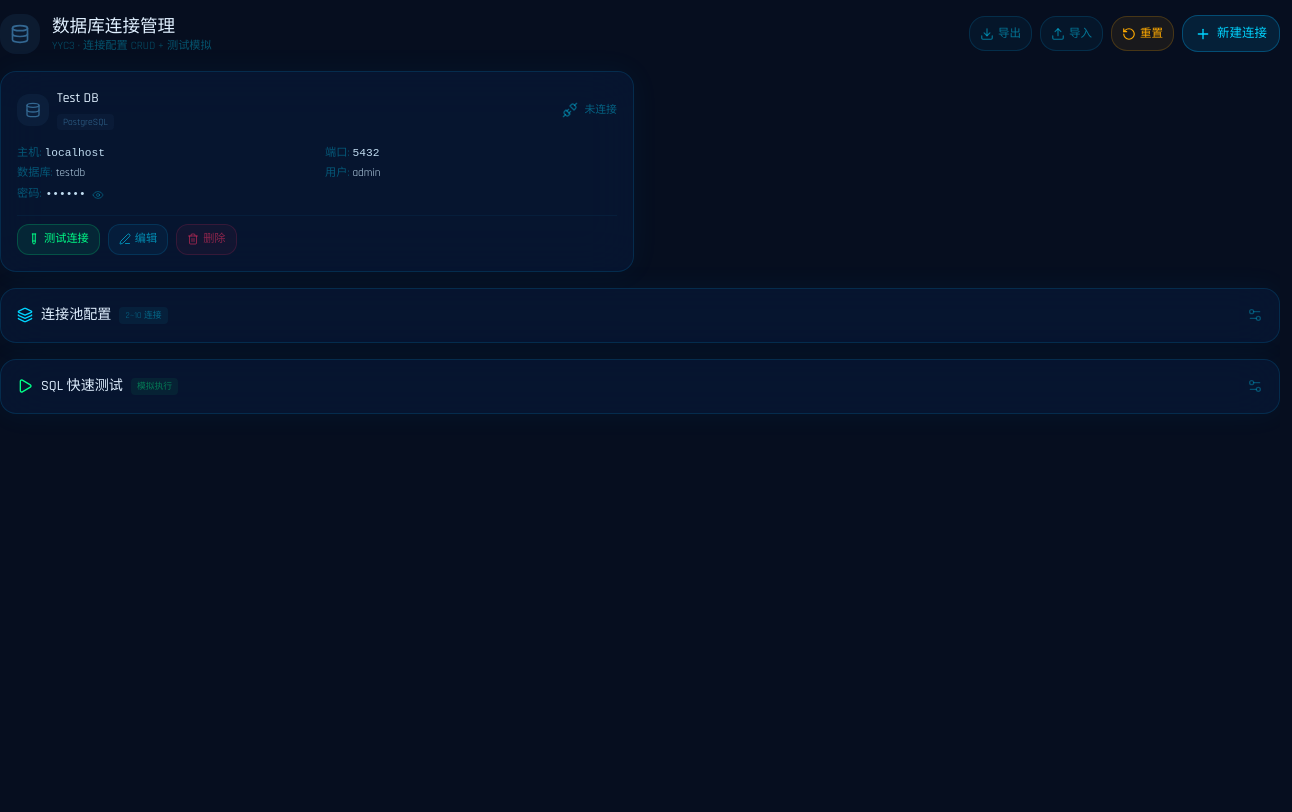
DatabaseConnectionPanel › SQL 快速测试 › clears SQL history
Later steps or results of the test are not shown.
Click the heading "SQL 快速测试": click(82, 386) left=41, top=376, right=123, bottom=397
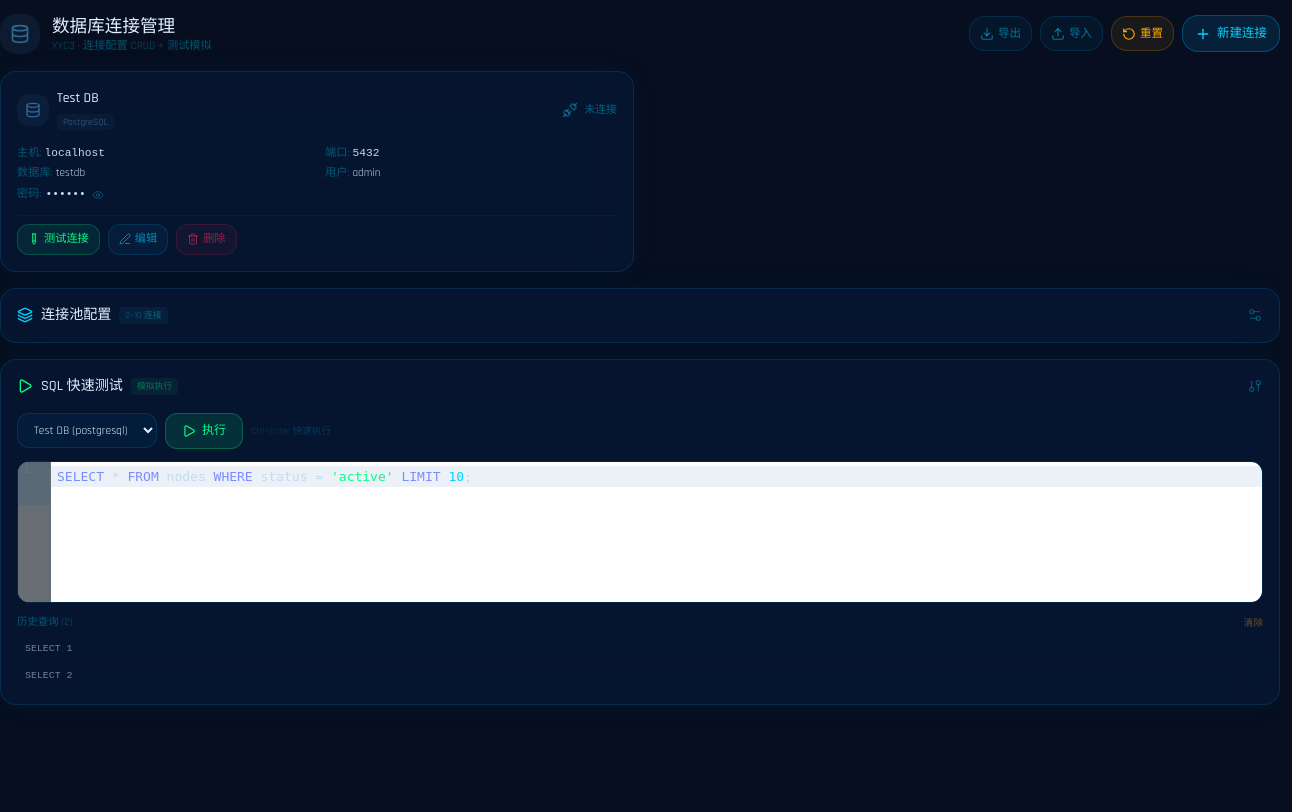
Now the text "历史查询 (2)" is shown, box left=17, top=615, right=72, bottom=631
